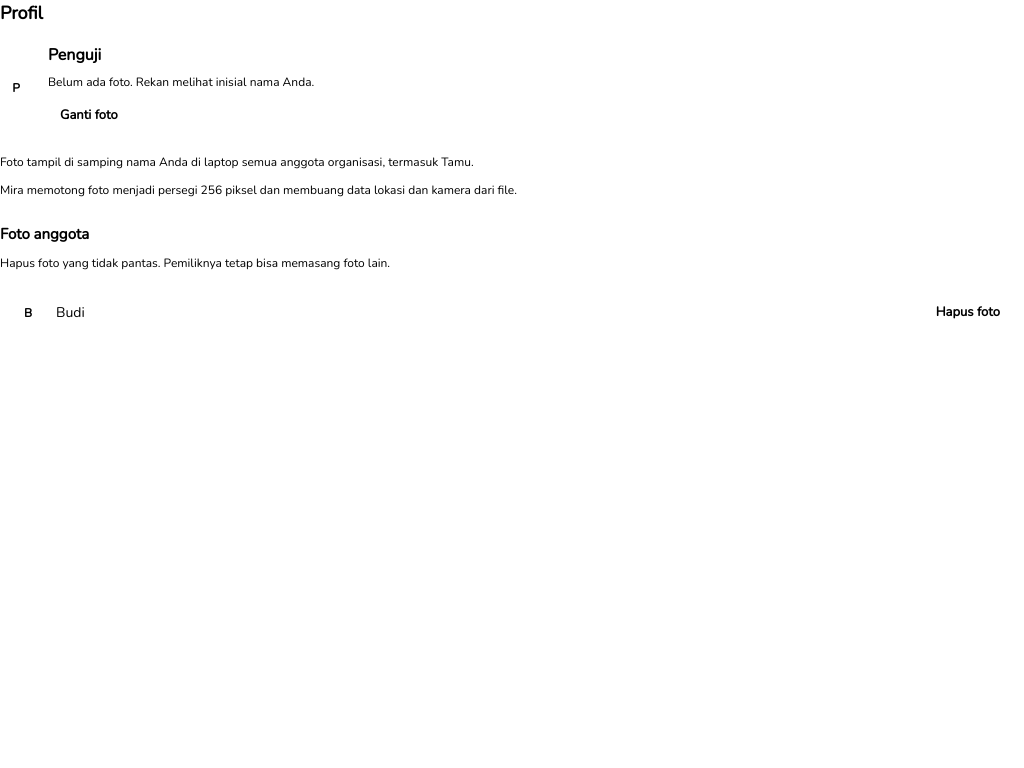
Scenario: Foto anggota › hapus foto anggota memanggil profileAdminRemovePhoto setelah konfirmasi
The width and height of the screenshot is (1024, 768).
Click the button with aria-label "Hapus foto Budi" at (968, 312), box x1=924 y1=296 x2=1012 y2=330
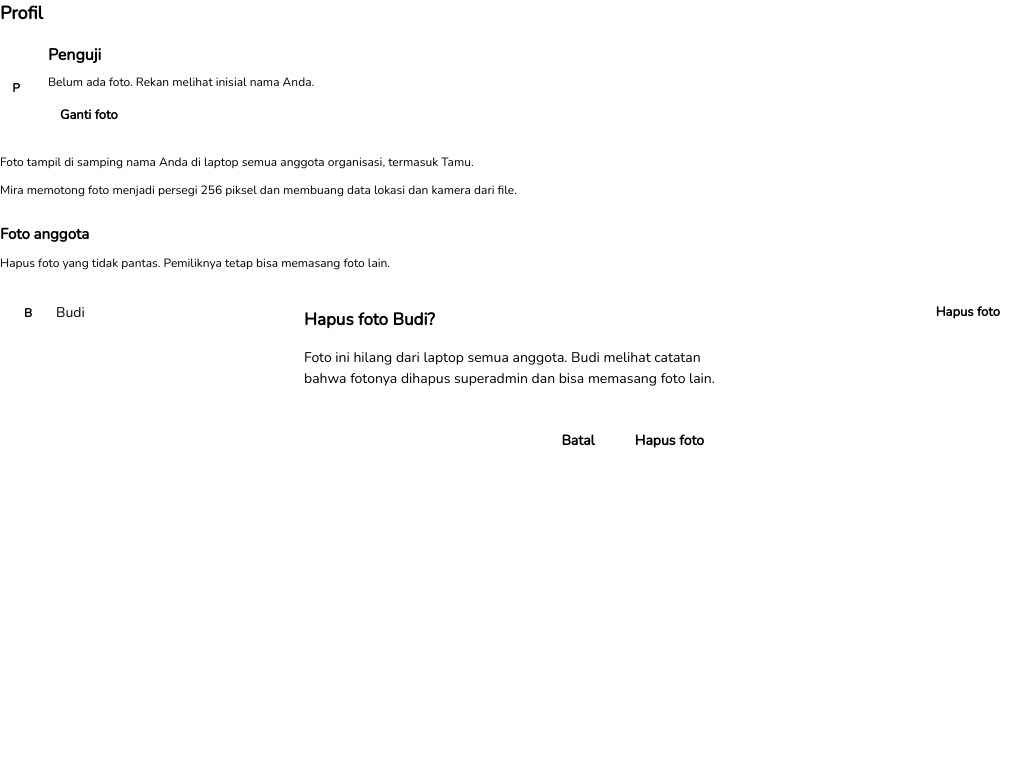
Click the button "Hapus foto" at (669, 441), box x1=619 y1=421 x2=720 y2=461
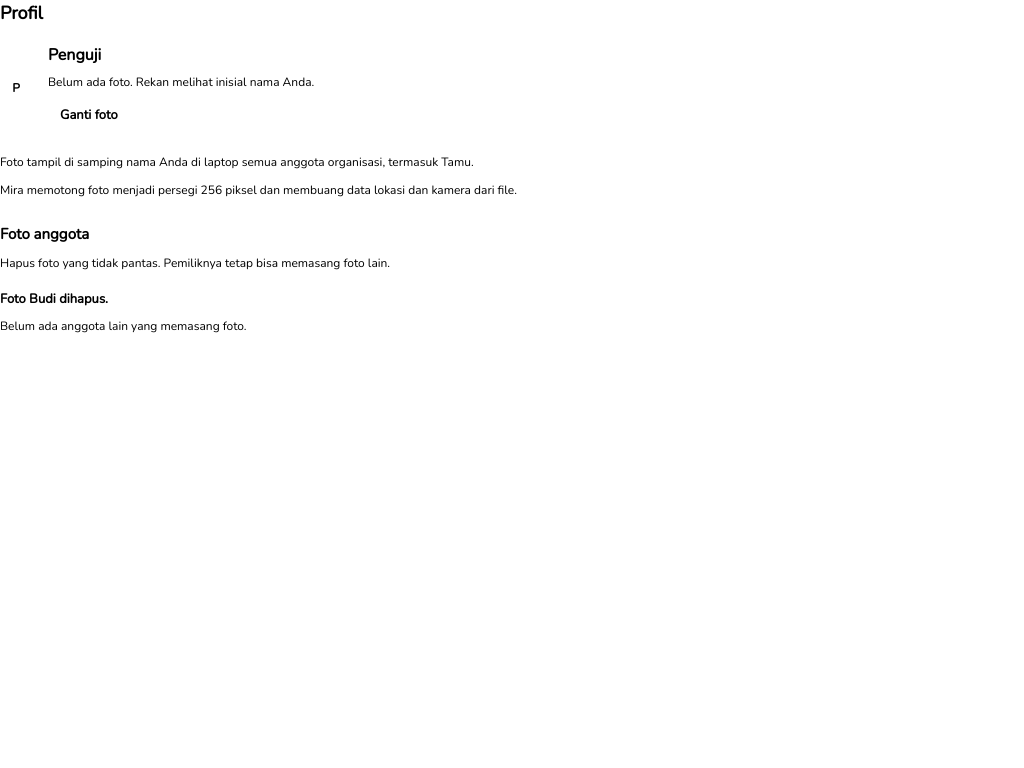
expect the text "Foto Budi dihapus." is shown: met, box x1=0 y1=290 x2=108 y2=308
expect the text "Belum ada anggota lain yang memasang foto." is shown: met, box x1=0 y1=318 x2=246 y2=334
